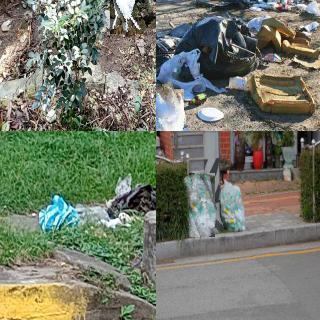Garbage: (174, 10, 262, 80), (184, 172, 220, 238), (104, 177, 156, 219), (35, 193, 83, 233), (102, 0, 151, 35), (156, 48, 202, 84), (156, 84, 188, 131), (220, 181, 246, 232)
